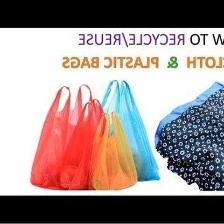plastic_bag: (81, 72, 164, 183), (26, 82, 94, 189), (58, 97, 109, 194), (90, 106, 138, 191)
